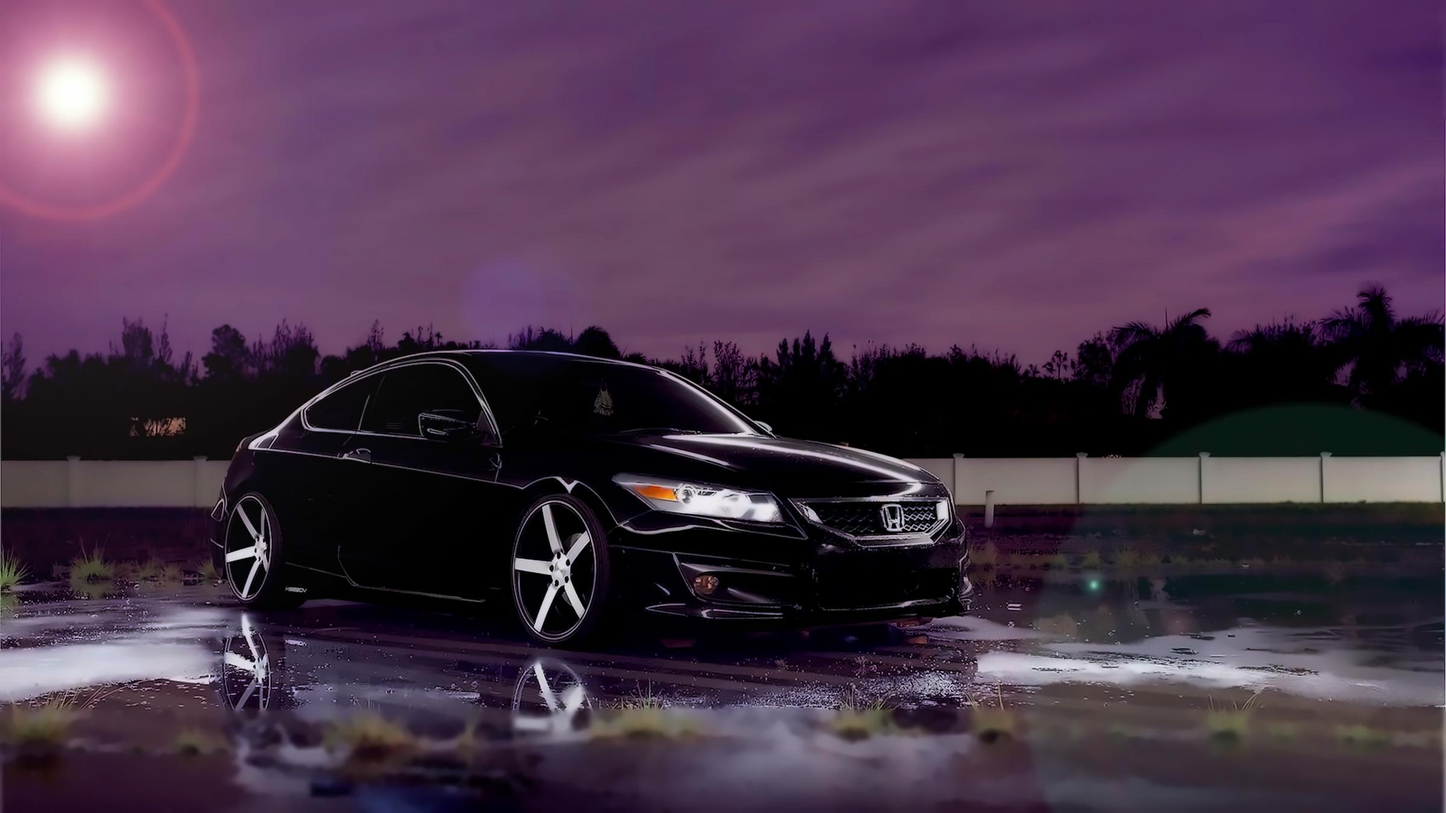Car hood: (525, 436, 957, 508)
Driver-s door - -F-R-: (338, 343, 505, 626)
Fender - -F-R-: (497, 469, 600, 523)
Fender - -R-R-: (215, 470, 287, 516)
Front bumper: (605, 501, 977, 633)
Headlight - -R-: (612, 469, 782, 528)
Rear bumper: (204, 487, 240, 587)
Side bumper - -R-: (281, 547, 510, 620)
Side mirror - -R-: (416, 412, 502, 465)
